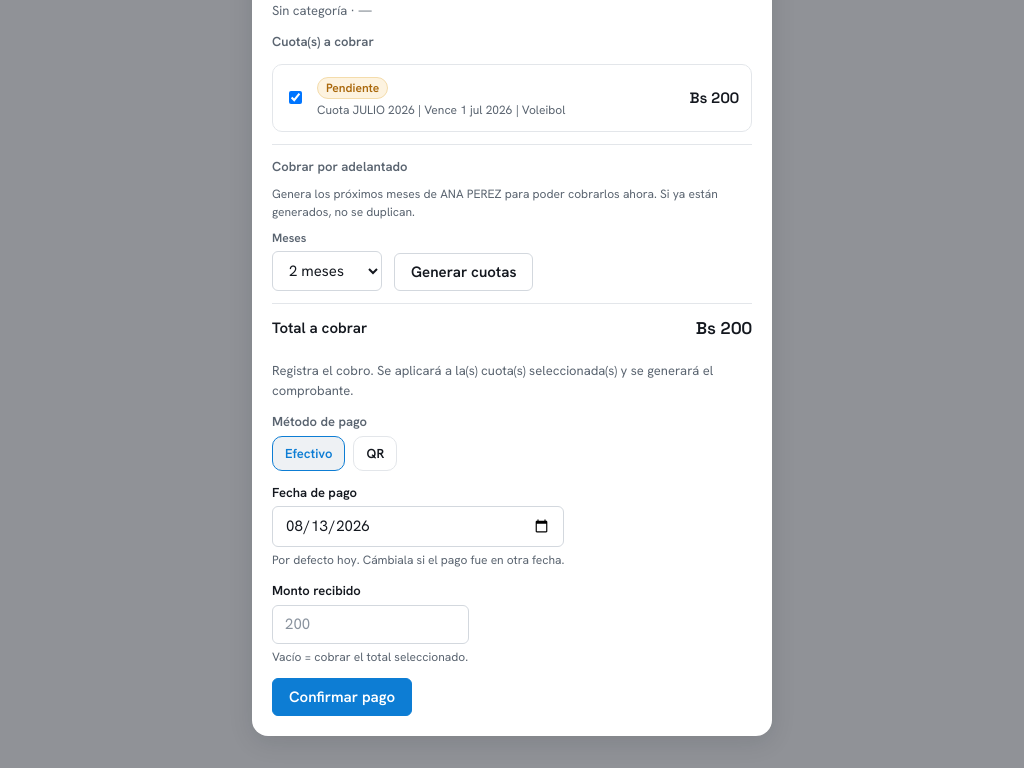
Test: RegistrarPago — aviso de sobrepago › "Revisar monto" cancela el aviso sin registrar
(page scrolled)
Type "250" into the number field labelled "Monto recibido" at point(370, 624), box [272, 605, 469, 644]
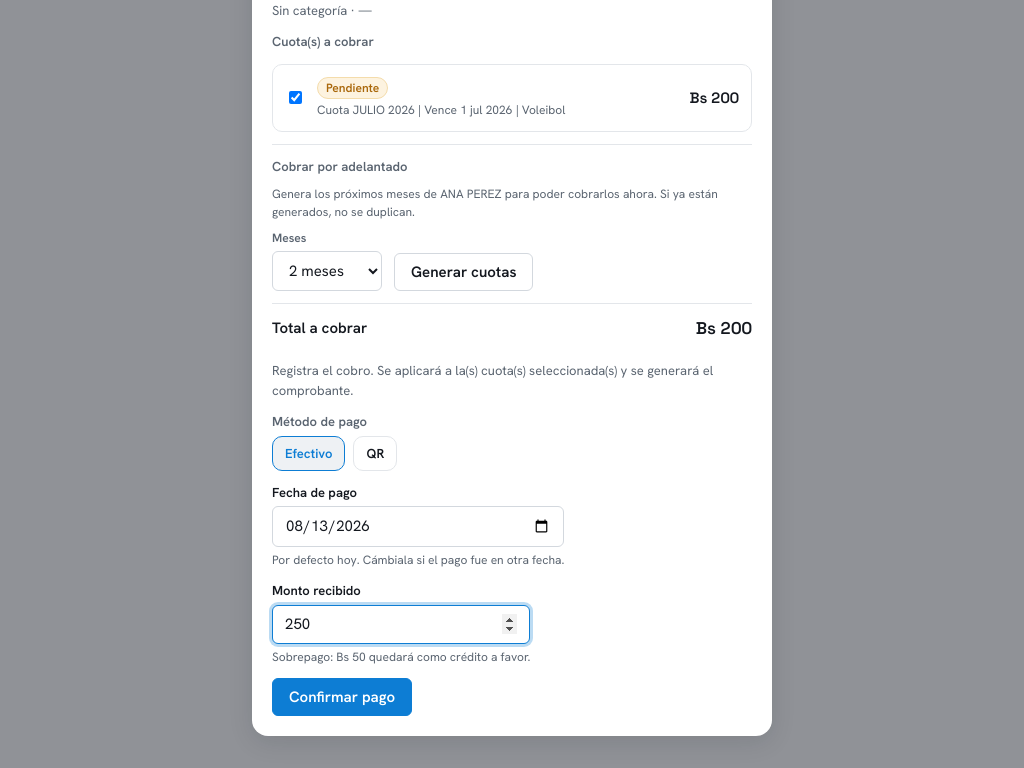
Click the button "Confirmar pago" at point(342, 697), box [272, 678, 412, 716]
(page scrolled)
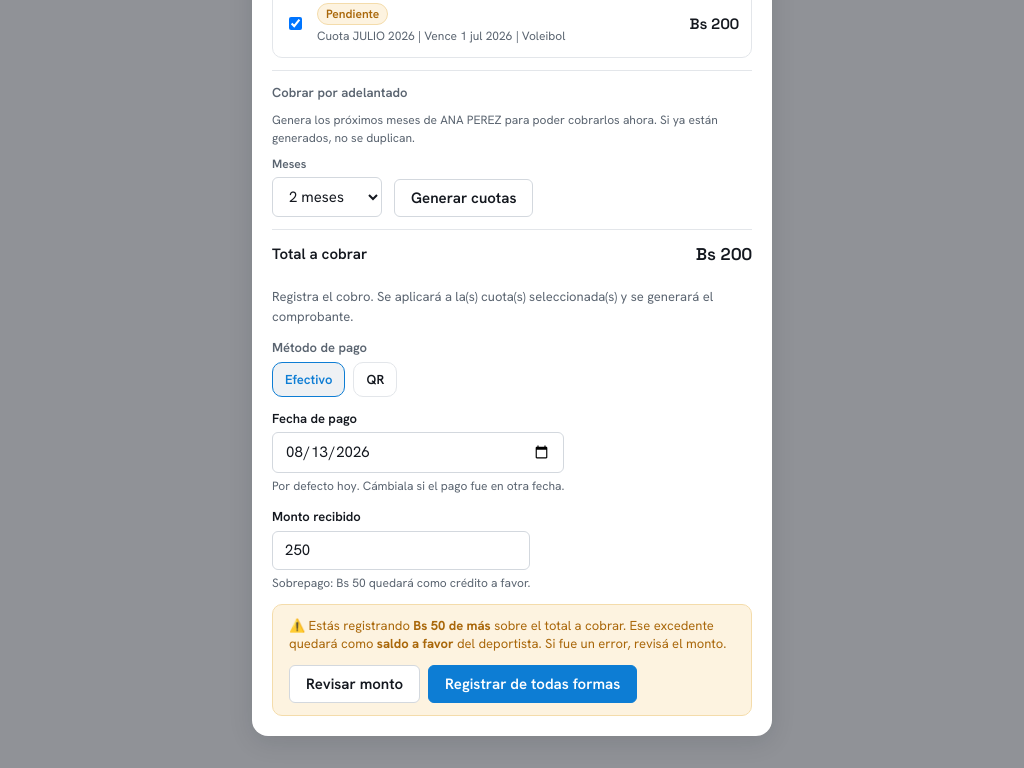
Click the button "Revisar monto" at point(355, 684), box [289, 665, 420, 703]
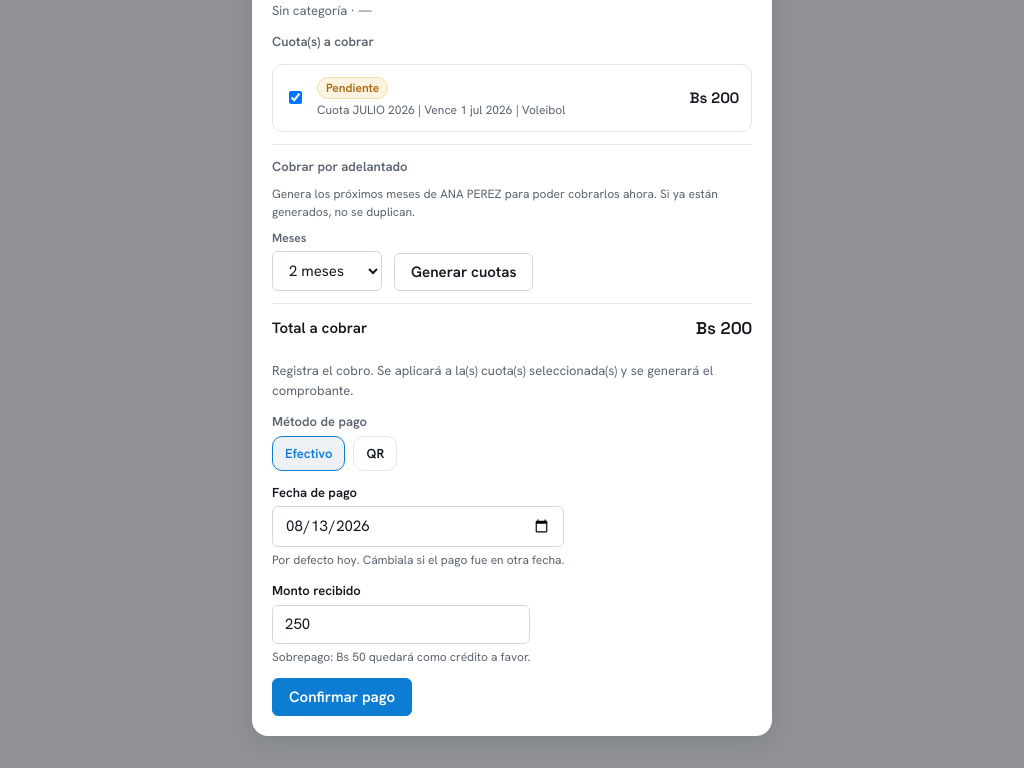
Now the button "Confirmar pago" is shown, box [272, 678, 412, 716]
